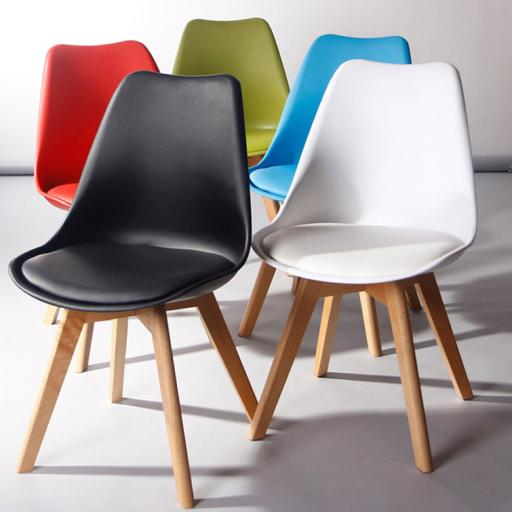chair: (246, 53, 489, 475)
